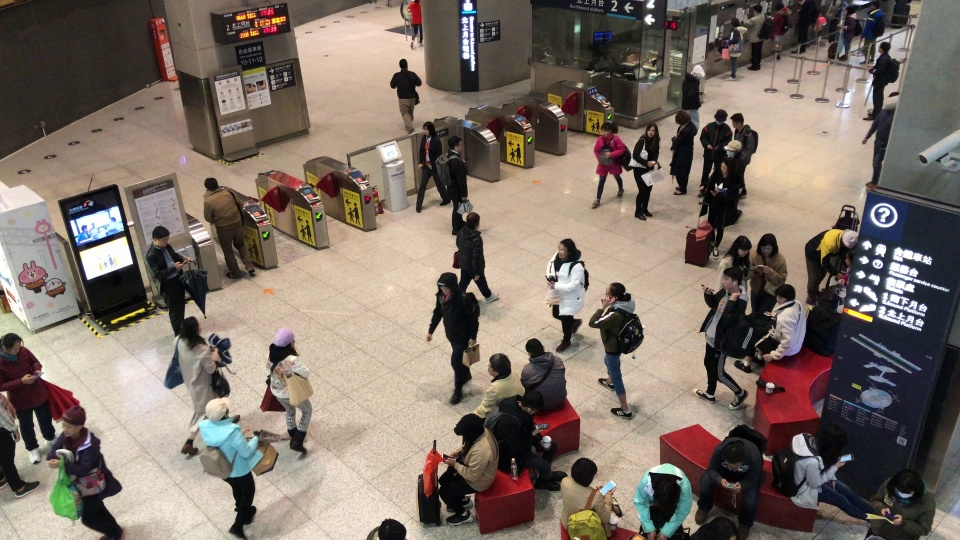person_head: (817, 422, 847, 457), (453, 413, 484, 441), (570, 456, 597, 487), (61, 405, 86, 437), (653, 480, 681, 508), (894, 470, 919, 499), (720, 441, 745, 469), (708, 516, 738, 539), (377, 518, 407, 540), (486, 352, 511, 377), (205, 396, 231, 420), (272, 326, 296, 351), (520, 389, 544, 414), (179, 315, 202, 339), (756, 232, 779, 256), (721, 266, 743, 291), (0, 332, 23, 355), (605, 281, 631, 301), (436, 272, 458, 295), (773, 283, 795, 305), (150, 225, 170, 247), (556, 238, 576, 258), (525, 337, 545, 357), (841, 228, 859, 249), (736, 234, 752, 257), (725, 139, 742, 157), (465, 211, 480, 230), (599, 121, 618, 136), (447, 135, 463, 152), (713, 109, 728, 125), (730, 112, 745, 128), (644, 122, 659, 137), (690, 64, 705, 79), (675, 110, 691, 124), (203, 177, 219, 191), (719, 159, 735, 173), (422, 120, 435, 137), (877, 40, 891, 54), (845, 251, 853, 267), (398, 58, 408, 70), (752, 4, 763, 14), (773, 1, 784, 11), (844, 5, 855, 15), (730, 17, 740, 27), (869, 1, 880, 9), (796, 0, 804, 3)
person_vbox: (44, 405, 124, 540), (770, 422, 873, 526), (197, 395, 263, 538), (483, 389, 567, 491), (694, 423, 767, 540), (692, 266, 749, 410), (587, 282, 644, 420), (0, 332, 58, 465), (425, 272, 480, 406), (437, 413, 499, 526), (172, 316, 221, 455), (733, 284, 806, 373), (265, 327, 313, 455), (202, 177, 256, 280), (143, 225, 192, 338), (863, 469, 938, 539), (559, 457, 624, 537), (545, 238, 589, 353), (633, 462, 693, 539), (803, 228, 859, 305), (0, 392, 40, 497), (697, 158, 737, 260), (455, 212, 499, 302), (861, 91, 900, 191), (590, 121, 631, 207), (472, 352, 525, 418), (519, 337, 566, 411), (434, 135, 468, 235), (415, 121, 451, 214), (748, 232, 788, 314), (628, 122, 660, 221), (861, 41, 900, 122), (698, 109, 733, 199), (668, 110, 698, 196), (389, 58, 422, 134), (730, 111, 758, 200), (742, 4, 774, 72), (716, 234, 752, 293), (718, 17, 749, 81), (722, 139, 744, 224), (859, 0, 886, 65), (765, 2, 792, 63), (681, 64, 705, 130), (836, 4, 863, 61), (790, 0, 819, 53), (826, 0, 849, 44), (406, 0, 423, 49)
